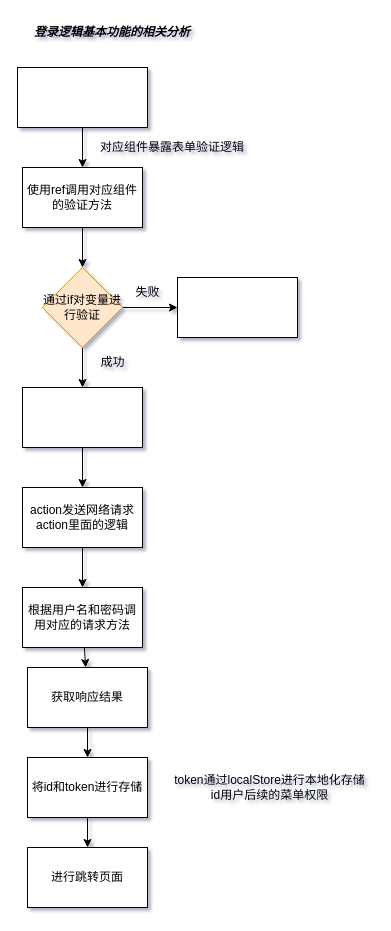
Some shapes in this 391 by 931 pixel diagram are drawn without their labels. The shapes that lost their labels are listed below. From the top down, each one's centre as x and y in pixels, then its label:
(x=82, y=97): 点击按钮触发点击事件
(x=237, y=307): 给出提示性信息
(x=82, y=417): 1. 获取验证名和密码 2.调用store里面的action发送网络请求
